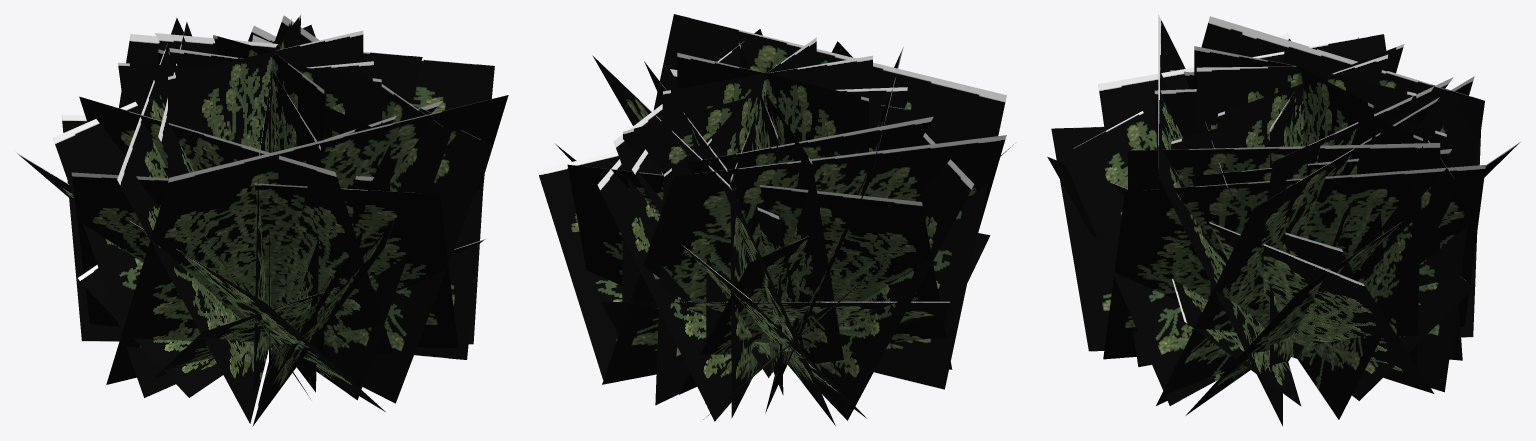
The model's file is bush.fbx.
The picture shows the model from 3 angles, left to right: view 1: azimuth 30°, elevation 25°; view 2: azimuth 150°, elevation 25°; view 3: azimuth 270°, elevation 25°; orthographic projection.
Visible parts, largest first — view 1: bush; view 2: bush; view 3: bush.
Part boxes in pixels (x1,y1,x2,y2): bush: [16, 14, 508, 426]; bush: [537, 14, 1013, 425]; bush: [1047, 14, 1521, 426].
Size of the model in its own units: 387 by 250 by 382.
1 material, 1 textured.
